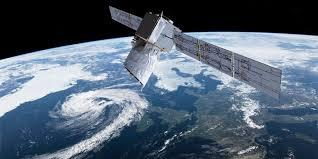body: (133, 9, 184, 53)
solar: (172, 27, 284, 102), (109, 5, 144, 32)
